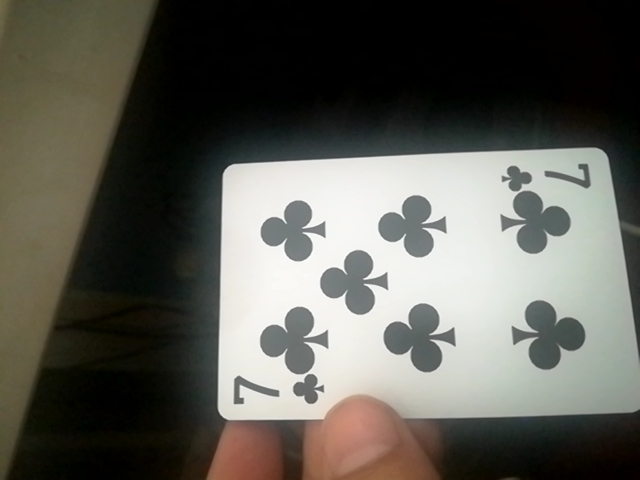mh 7: (207, 144, 636, 429)
